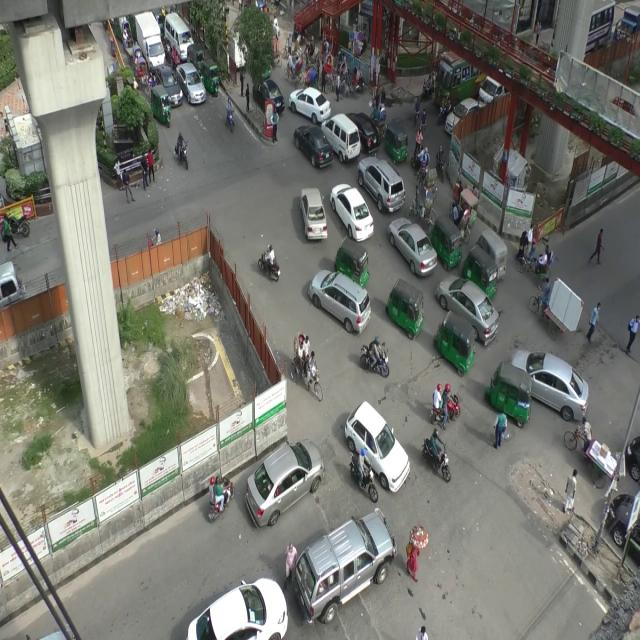Rikshaw-Py4o: (288, 335, 323, 408), (408, 180, 440, 222), (515, 245, 553, 275), (367, 98, 390, 134), (282, 51, 306, 82), (450, 202, 474, 226)
